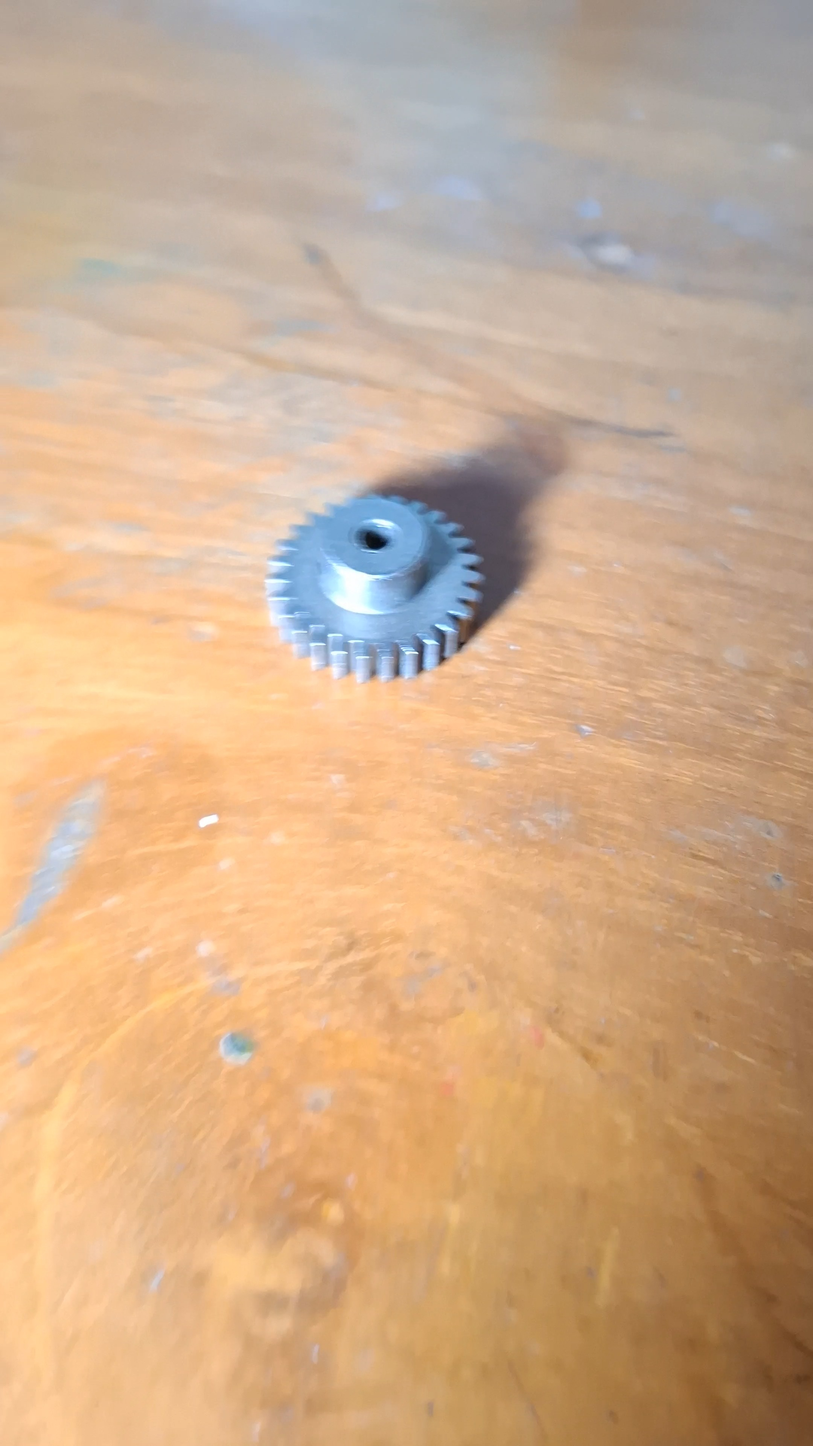spur gear: (266, 496, 483, 682)
